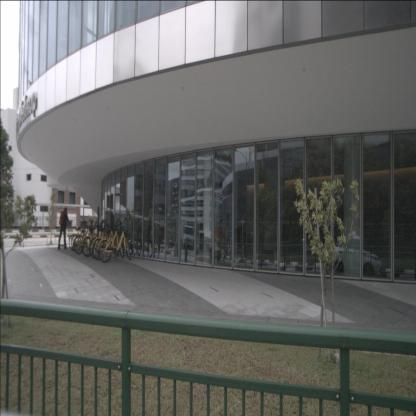human-pedestrian-adult: (57, 208, 69, 250)
vehicle-car: (332, 233, 383, 280)
vehicle-truck: (183, 223, 195, 250)
